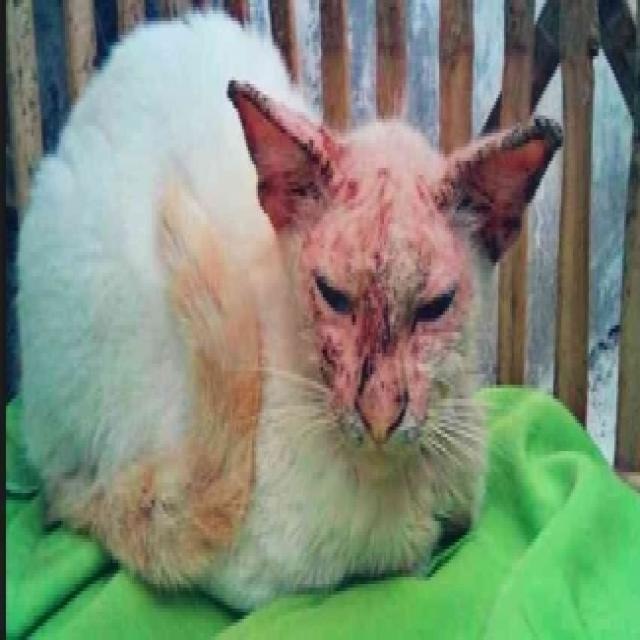cat-scabies: (457, 132, 556, 218), (360, 252, 400, 355), (248, 89, 296, 145), (319, 340, 343, 387), (304, 145, 340, 175)
